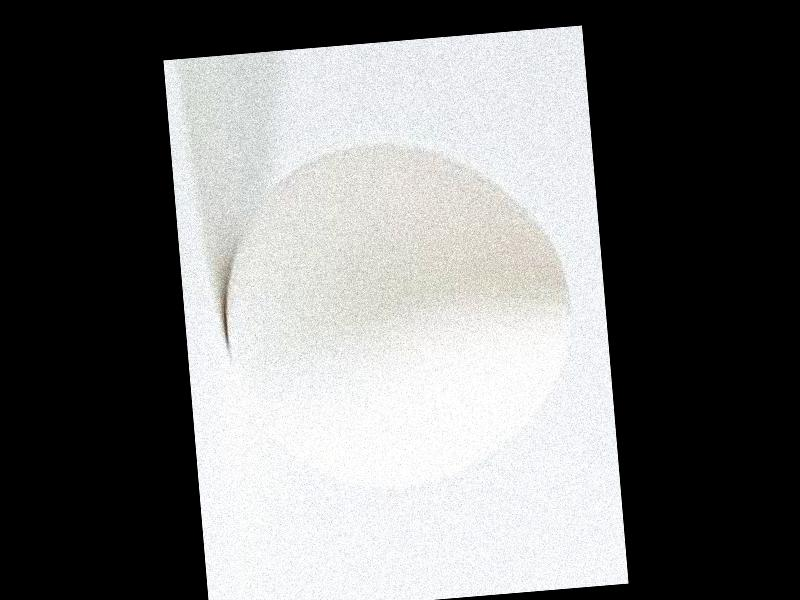Eggs: (212, 132, 586, 498)
